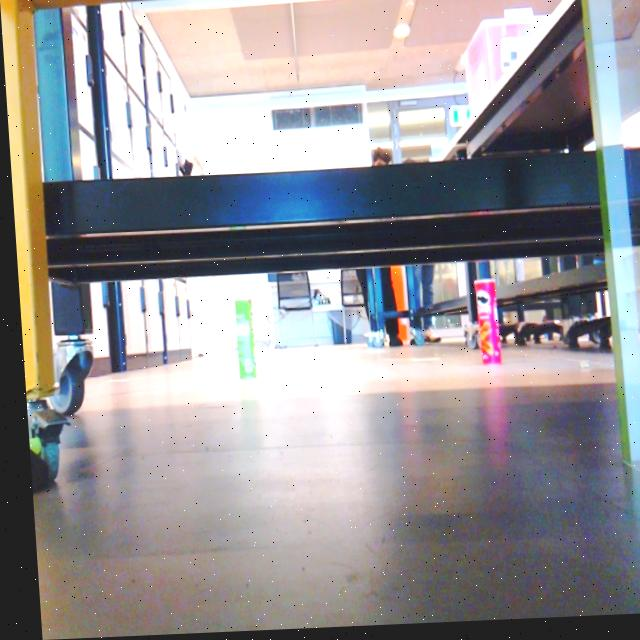greenpringles: (221, 290, 256, 386)
redpringles: (457, 271, 497, 383)
